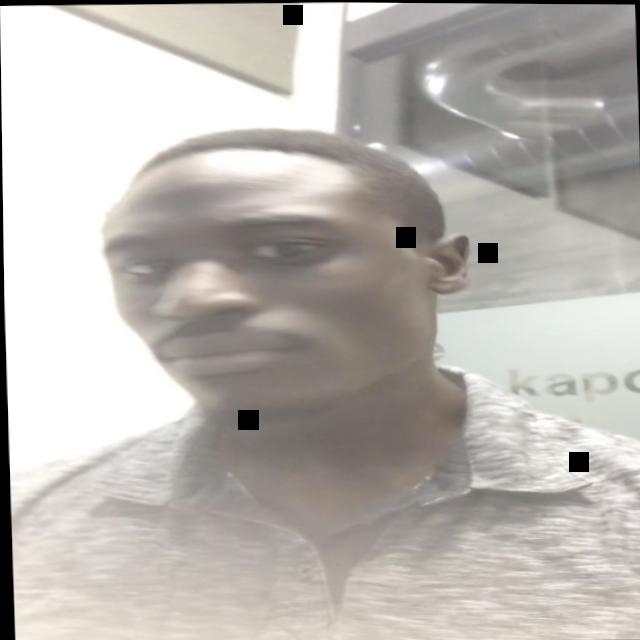NO-Mask: (97, 161, 428, 422)
